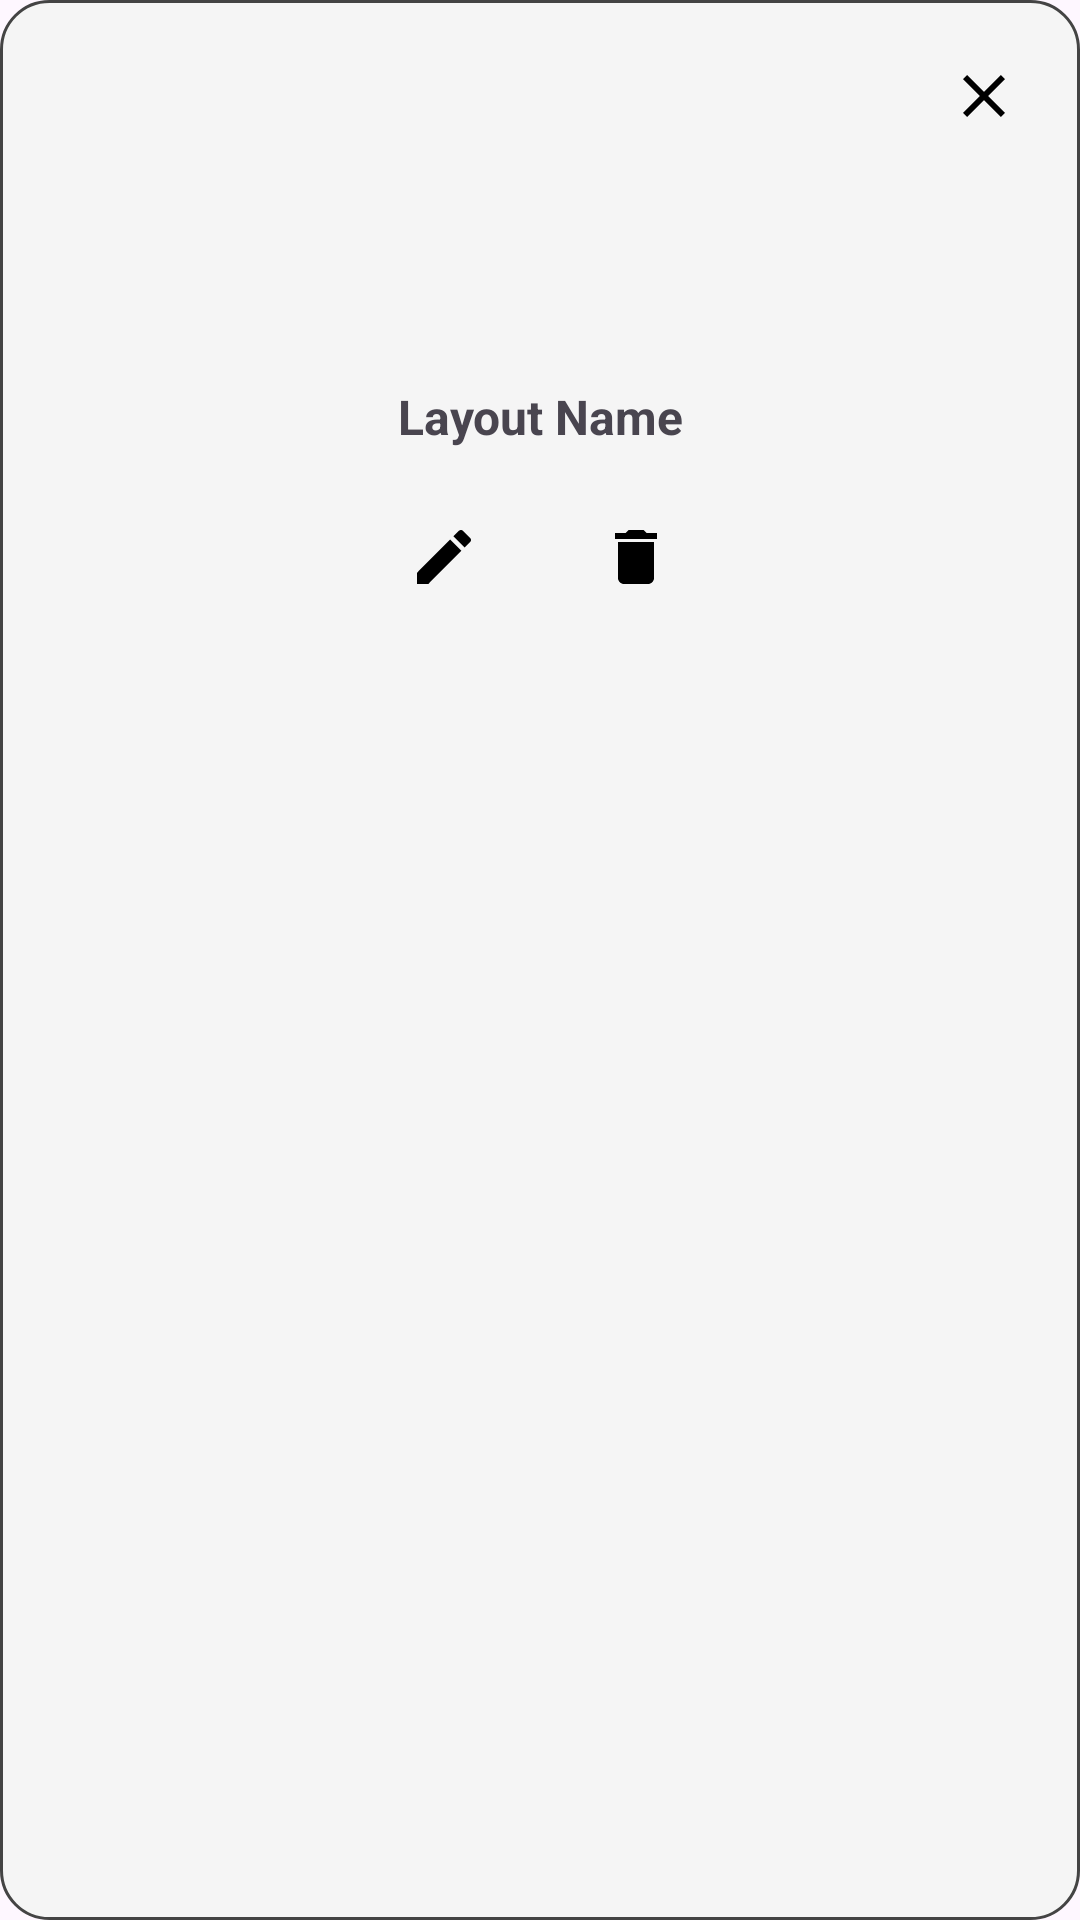

Icon click points for this 1080 x 1920 phone screenshot, format point (x, y):
close: point (984, 96)
delete: point (636, 557)
edit: point (444, 557)
